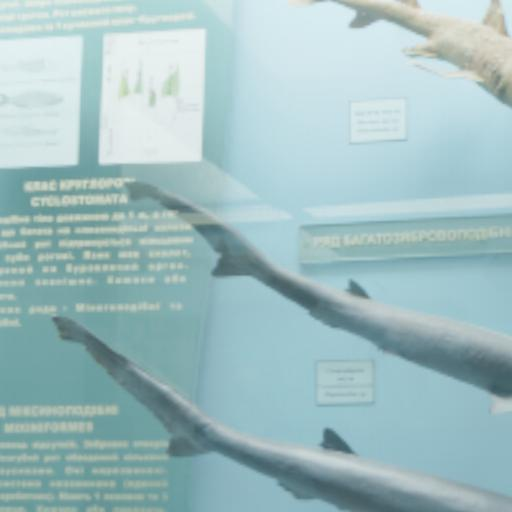nothing: (2, 1, 512, 512)
